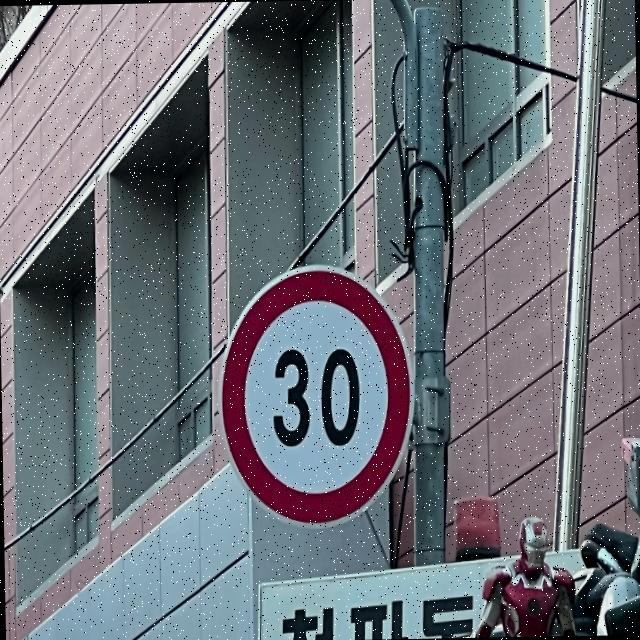Ograniczenie predkosci do 30: (220, 266, 412, 530)
